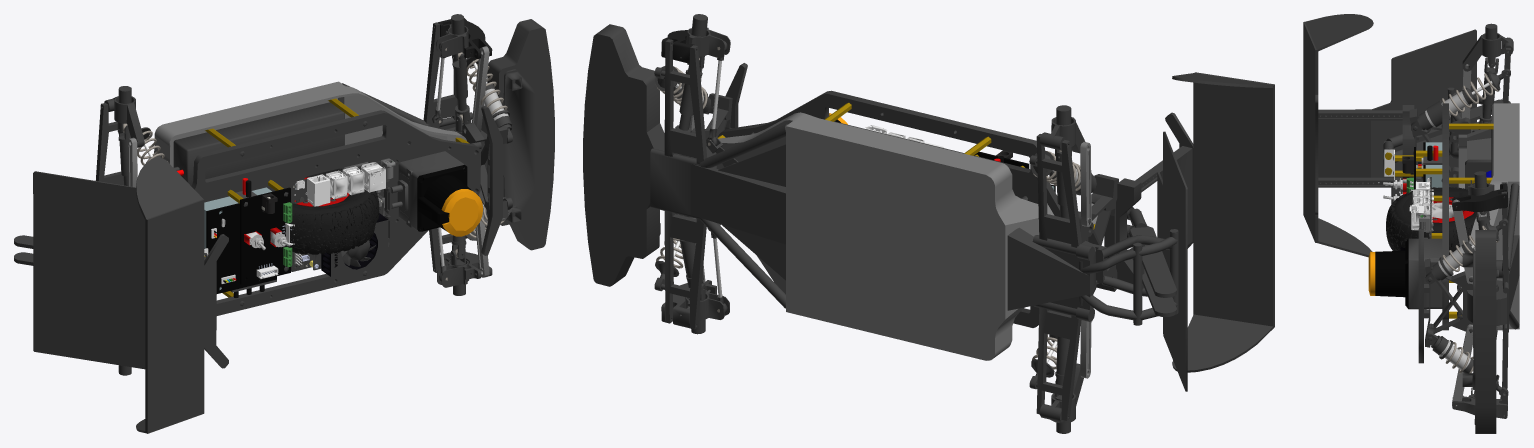
Rendered from f1tenth.glb.
3 views of the same model, side by side, from view 1: azimuth 30°, elevation 25°; view 2: azimuth 150°, elevation 25°; view 3: azimuth 270°, elevation 25° (orthographic). The views are drawn at different scales.
Parts seen in each view (by area): view 1: chassis-Material #25, chassis-Material #33, chassis-Material #191, chassis-Material #35, chassis-Material #180, rr-Tire, chassis-Material #57, chassis-Material #133, rl-Tire, chassis-Material #184, fr-Tire, chassis-Material #175 (+8 smaller); view 2: chassis-Material #25, chassis-Material #191, chassis-Material #33, chassis-Material #175, chassis-Material #26; view 3: chassis-Material #25, chassis-Material #191, chassis-Material #33, chassis-Material #133, chassis-Material #35, chassis-Material #199, rr-Tire, chassis-Material #57, chassis-Material #175, chassis-Material #116, chassis-Material #26, rl-Tire (+6 smaller).
Part boxes in pixels (x1,y1,x2,y2): chassis-Material #25: [33, 14, 554, 433]; chassis-Material #33: [14, 41, 512, 281]; chassis-Material #191: [128, 46, 489, 277]; chassis-Material #35: [206, 164, 472, 293]; chassis-Material #180: [240, 187, 290, 284]; rr-Tire: [284, 168, 379, 253]; chassis-Material #57: [204, 162, 385, 255]; chassis-Material #133: [230, 151, 465, 292]; rl-Tire: [284, 169, 379, 254]; chassis-Material #184: [441, 189, 482, 236]; fr-Tire: [284, 192, 379, 250]; chassis-Material #175: [123, 48, 507, 280]; chassis-Material #25: [583, 14, 1274, 433]; chassis-Material #191: [689, 68, 1091, 378]; chassis-Material #33: [654, 40, 1176, 389]; chassis-Material #175: [656, 47, 1080, 369]; chassis-Material #26: [661, 30, 694, 63]; chassis-Material #25: [1303, 14, 1519, 433]; chassis-Material #191: [1452, 64, 1519, 405]; chassis-Material #33: [1383, 68, 1510, 397]; chassis-Material #133: [1408, 156, 1442, 309]; chassis-Material #35: [1375, 142, 1425, 308]; chassis-Material #199: [1395, 123, 1493, 318]; rr-Tire: [1386, 187, 1473, 251]; chassis-Material #57: [1384, 149, 1433, 230]; chassis-Material #175: [1442, 60, 1499, 373]; chassis-Material #116: [1425, 91, 1482, 370]; chassis-Material #26: [1452, 183, 1507, 211]; rl-Tire: [1386, 187, 1475, 254].
Bounding box in the file's own units: 0.5196 × 0.2688 × 0.2053.
